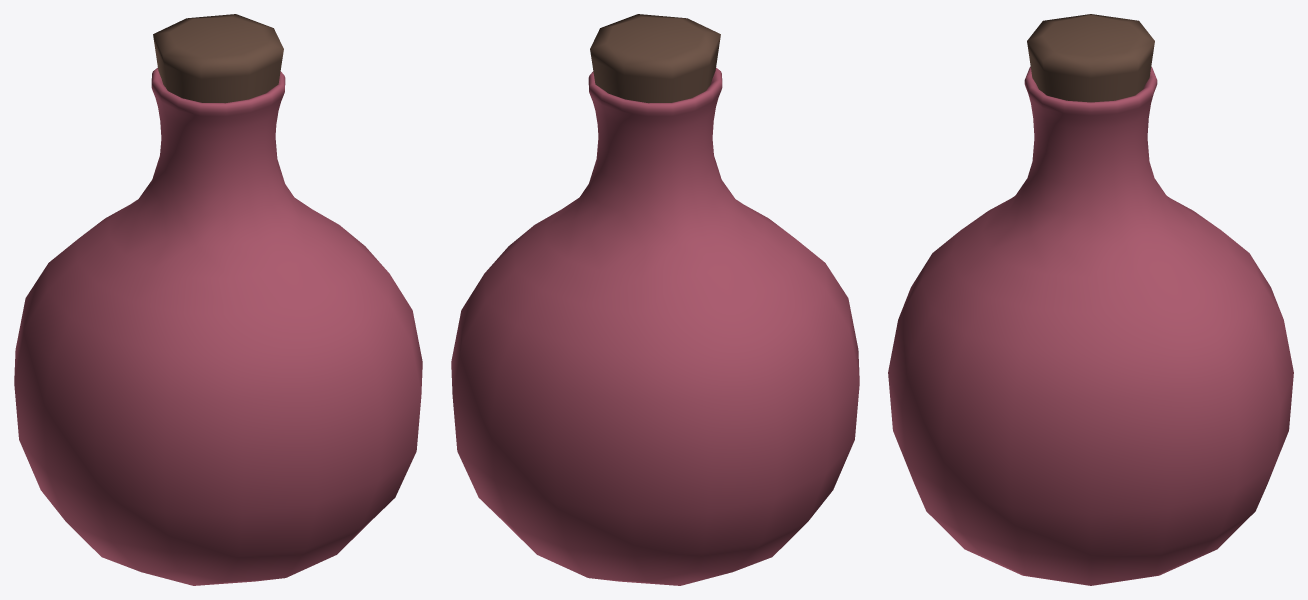
File: potion.glb
3 renders of one model, left to right at view 1: azimuth 30°, elevation 25°; view 2: azimuth 150°, elevation 25°; view 3: azimuth 270°, elevation 25°, orthographic.
Parts seen in each view (by area): view 1: Potion1_Filled; view 2: Potion1_Filled; view 3: Potion1_Filled.
Boxes of the visible parts, bbox=[...] form: Potion1_Filled: bbox=[14, 14, 422, 585]; Potion1_Filled: bbox=[451, 14, 859, 585]; Potion1_Filled: bbox=[888, 14, 1293, 585].
Size of the model in its own units: 0.1666 by 0.24 by 0.1666.
